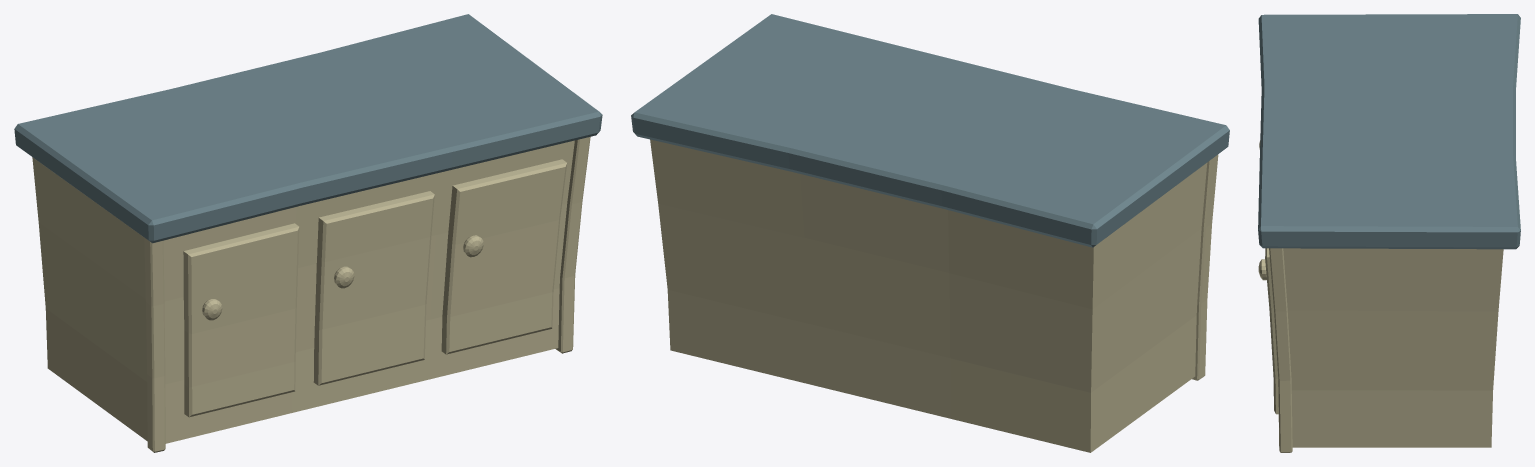
Rendered from KitchenSink.fbx.
3 views of the same model, side by side, from view 1: azimuth 30°, elevation 25°; view 2: azimuth 150°, elevation 25°; view 3: azimuth 270°, elevation 25° (orthographic). The views are drawn at different scales.
Parts seen in each view (by area): view 1: KitchenSink; view 2: KitchenSink; view 3: KitchenSink.
Part boxes in pixels (x1=…): KitchenSink: x1=14, y1=14, x2=602, y2=452; KitchenSink: x1=631, y1=14, x2=1229, y2=452; KitchenSink: x1=1258, y1=14, x2=1520, y2=452.
Size of the model in its own units: 275 by 139 by 141.
